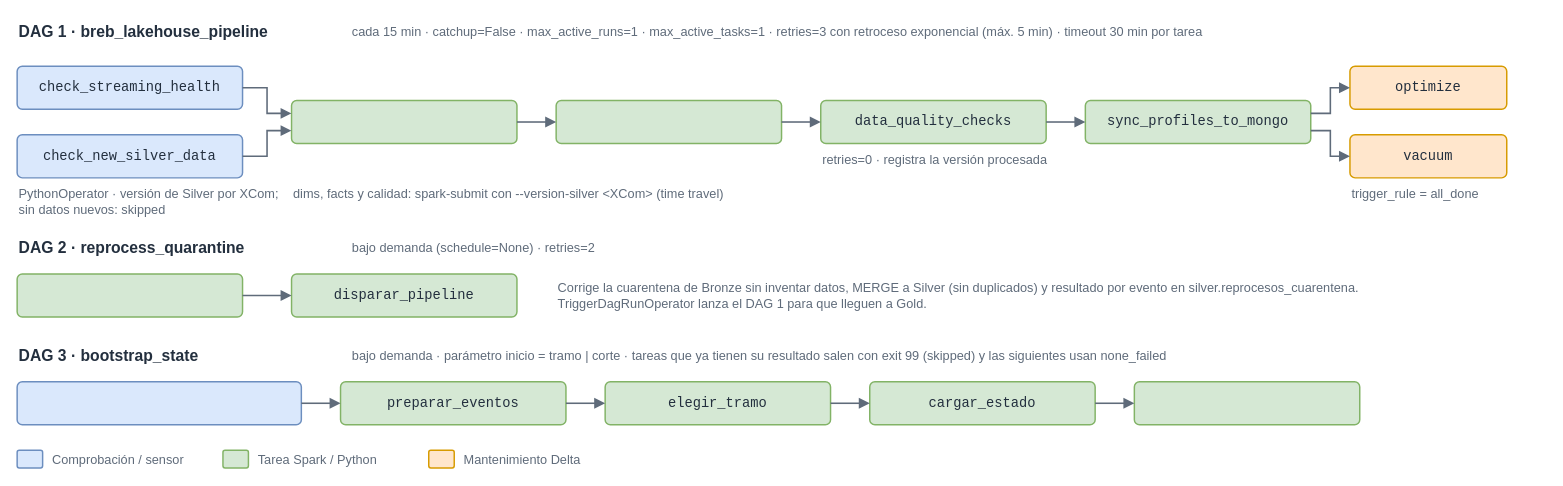
The diagram is 1563 pixels wide and 486 high, and some of its shapes have lost their labels. The shapes that lost their labels are listed below. From the top down, each one's centre as x and y in pixels, then its label:
pixel 403 121: silver_to_gold_dims
pixel 668 121: silver_to_gold_facts
pixel 129 295: reprocesar_cuarentena
pixel 159 403: comprobar_streaming_detenido
pixel 1246 403: verificar_estado
